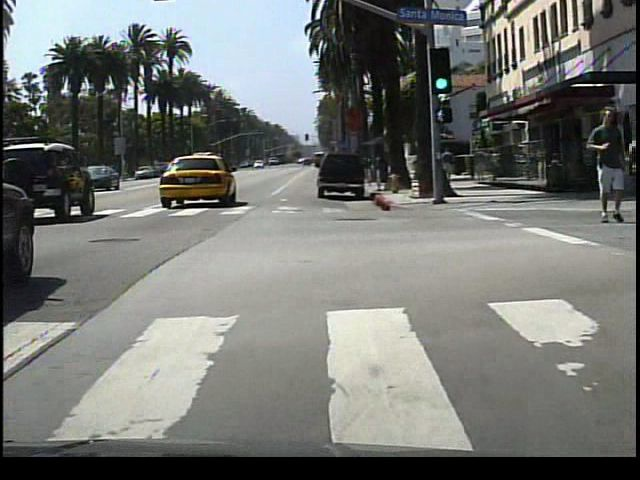person: (579, 102, 628, 225), (438, 145, 460, 185)
